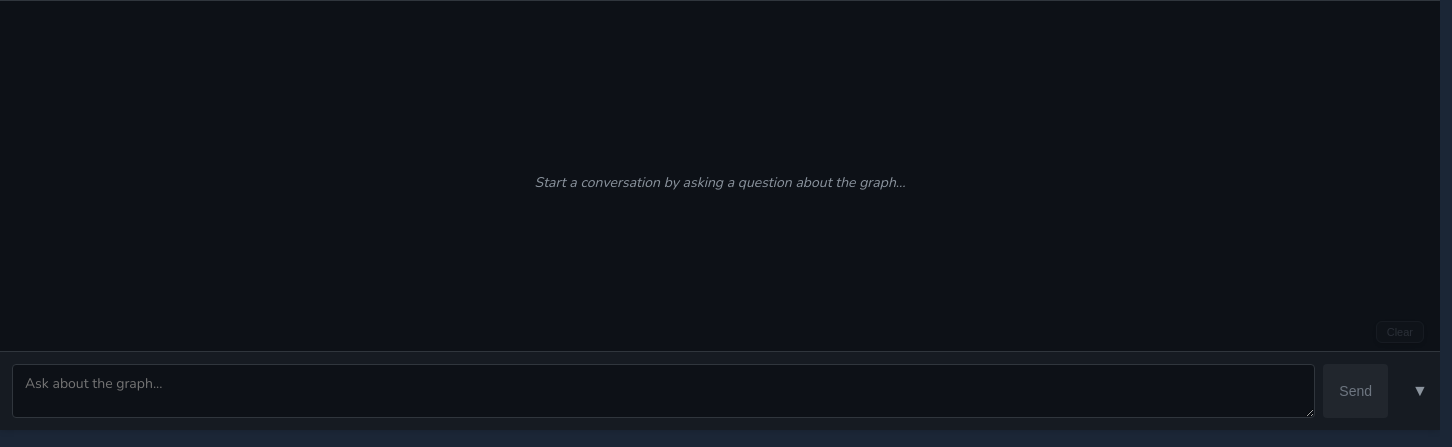
Scenario: ChatPanel Component › User Story 2: Query Submission and Response Display › Query Submission › does not clear input if submission fails
Step 1. Type "test query" into the text box → (664, 391), box [12, 364, 1315, 418]
Then press Enter
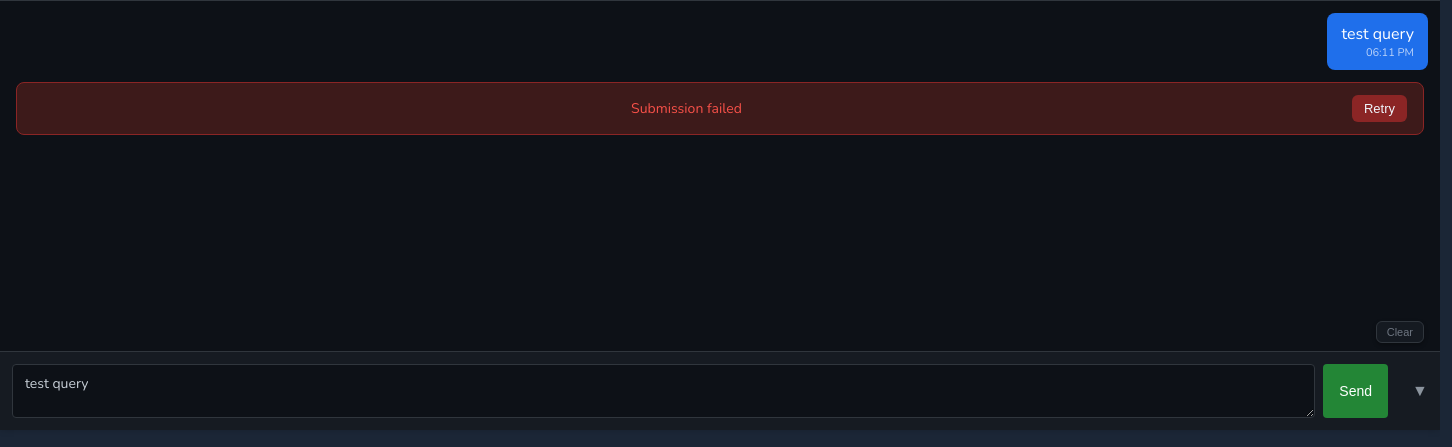
expect the text "Submission failed" is shown: met, box [631, 99, 742, 118]
